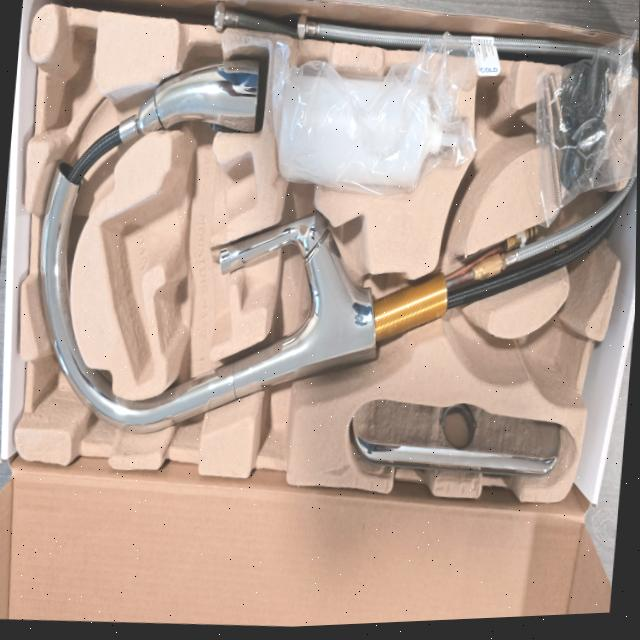1: (36, 58, 634, 439)
2m: (99, 154, 255, 384)
3: (277, 70, 463, 187)
4: (350, 399, 557, 474)
5m: (520, 314, 578, 389)
6m: (450, 76, 527, 221)
7: (533, 27, 638, 229)
